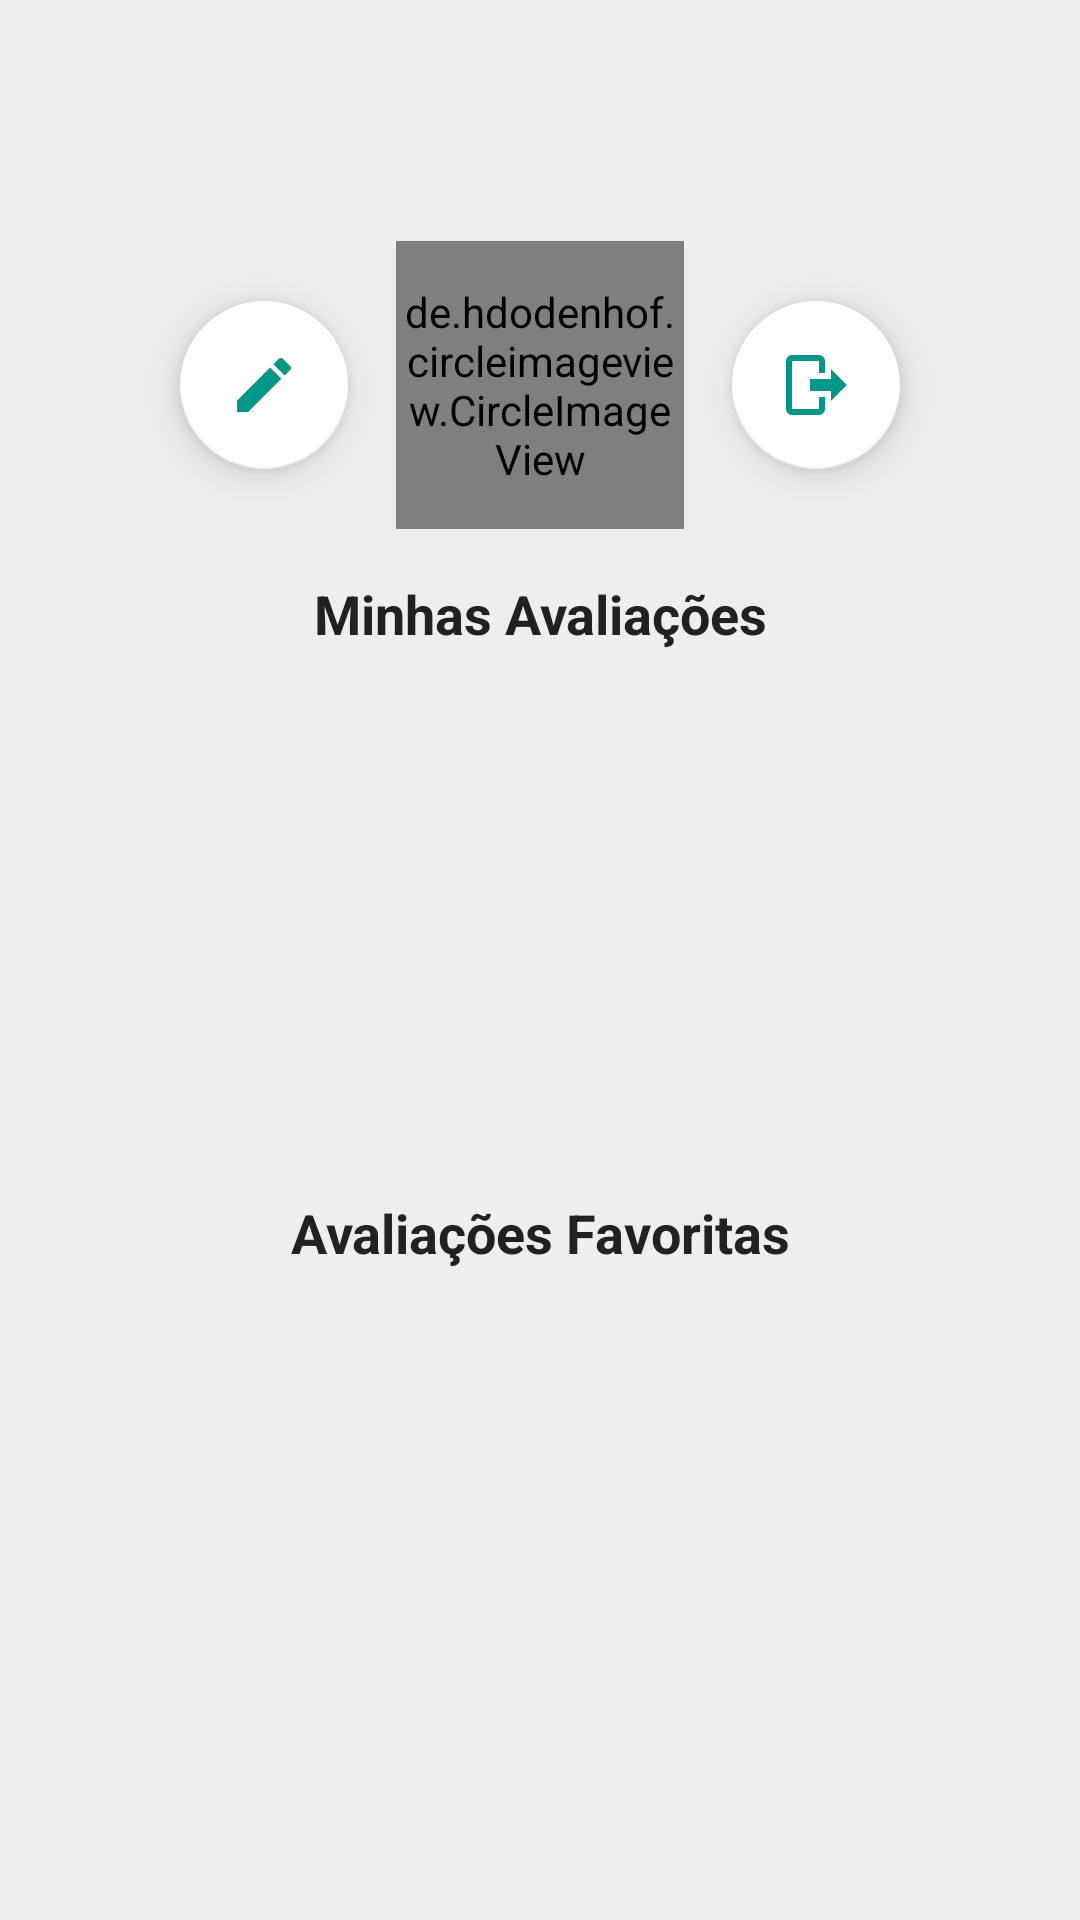

Where icons sit on this 1080 × 1920 app screen, as (x1=x1, y1=y1, x2=x2, y2=y2):
edit: (x1=180, y1=301, x2=348, y2=469)
